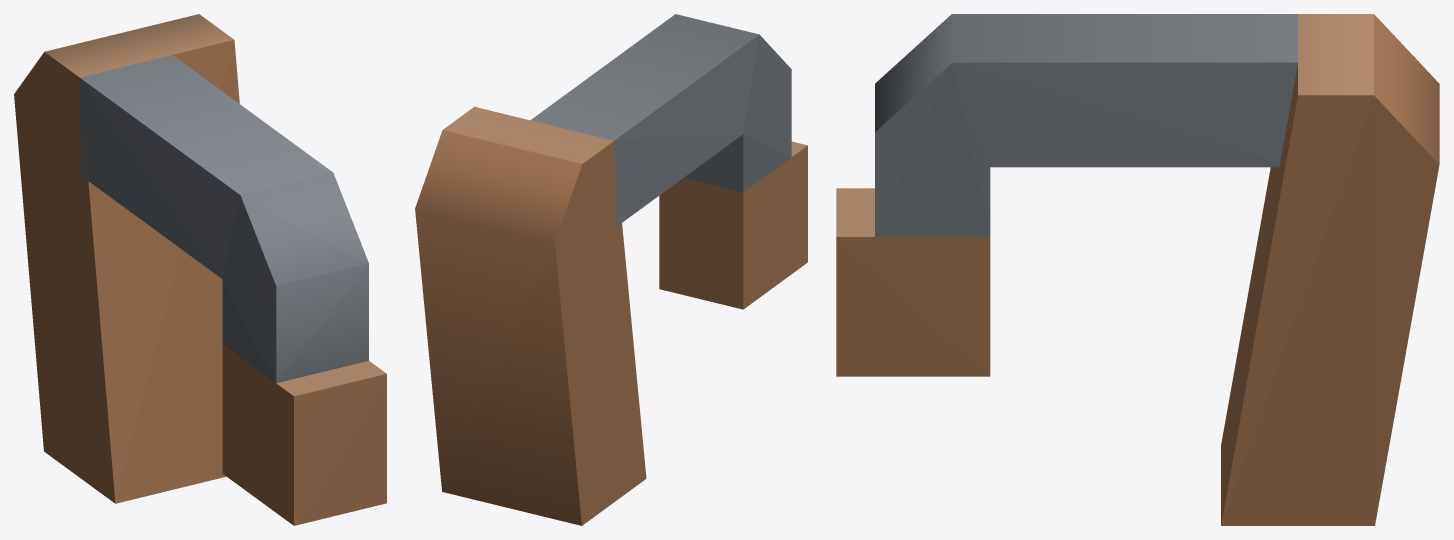
The model's file is hearing-aid.high.133e6460.glb.
3 renders of one model, left to right at view 1: azimuth 30°, elevation 25°; view 2: azimuth 150°, elevation 25°; view 3: azimuth 270°, elevation 25°, orthographic. The views are drawn at different scales.
Visible parts, largest first — view 1: hearing-aid; view 2: hearing-aid; view 3: hearing-aid.
Part boxes in pixels (x1,y1,x2,y2): hearing-aid: (14,14,386,525); hearing-aid: (415,14,807,525); hearing-aid: (836,14,1439,525).
Bounding box in the file's own units: 0.11 × 0.2718 × 0.3449.
